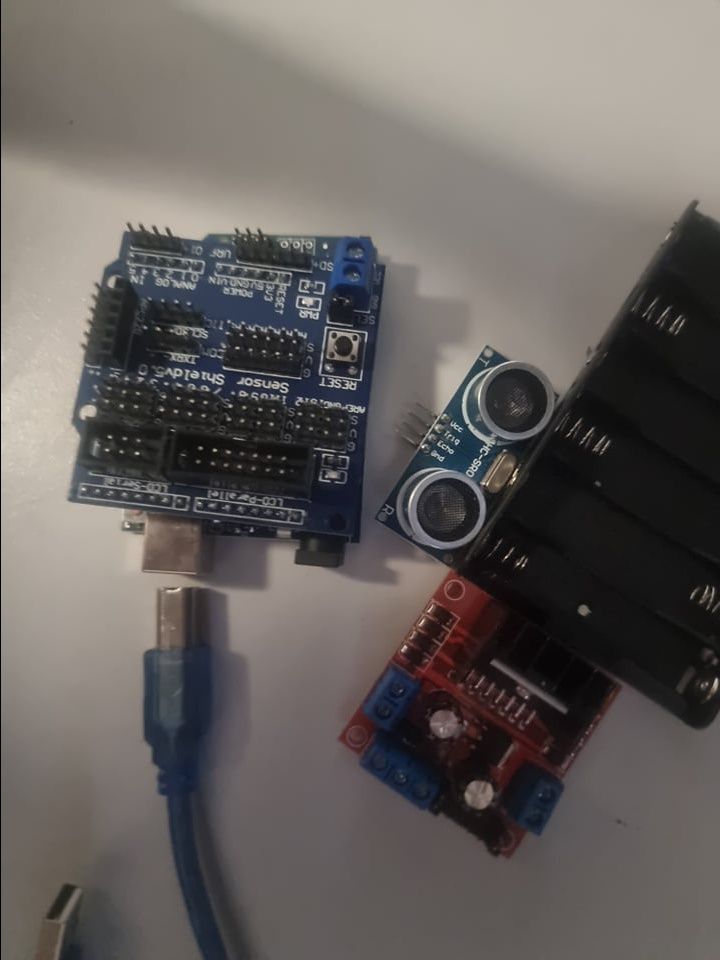BATTERY BOX: (453, 206, 719, 729)
MOTOR: (330, 573, 621, 857)
SENSOR: (371, 344, 553, 562)
UNO R3: (58, 224, 372, 511)
